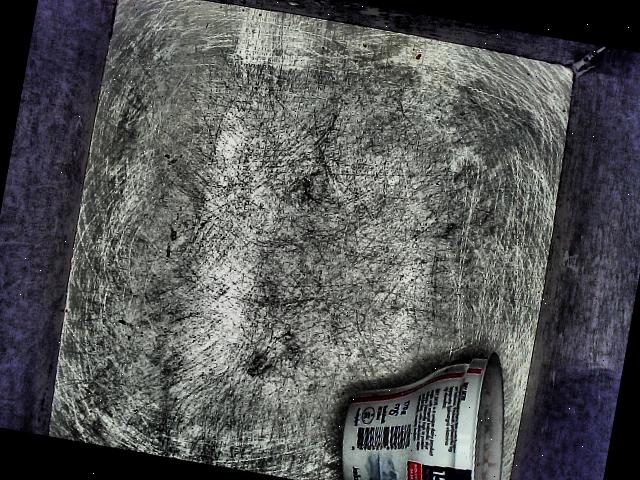Plastic: (339, 320, 533, 480)
